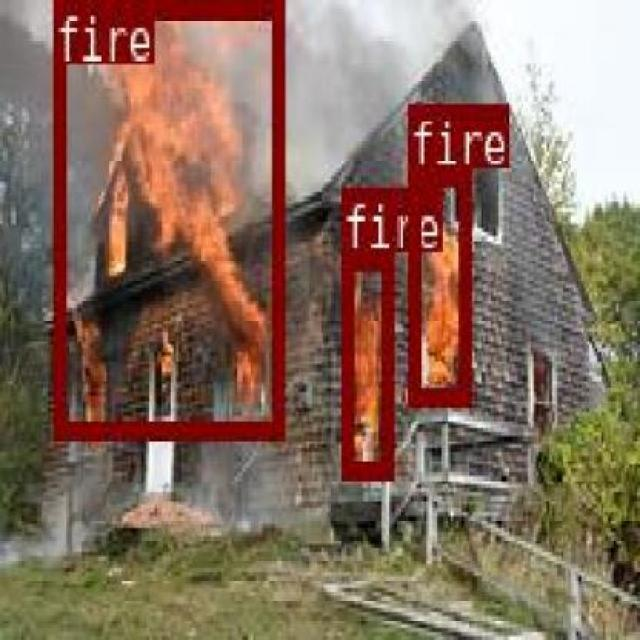Fire: (52, 0, 281, 432), (406, 166, 469, 405), (338, 250, 391, 472)
